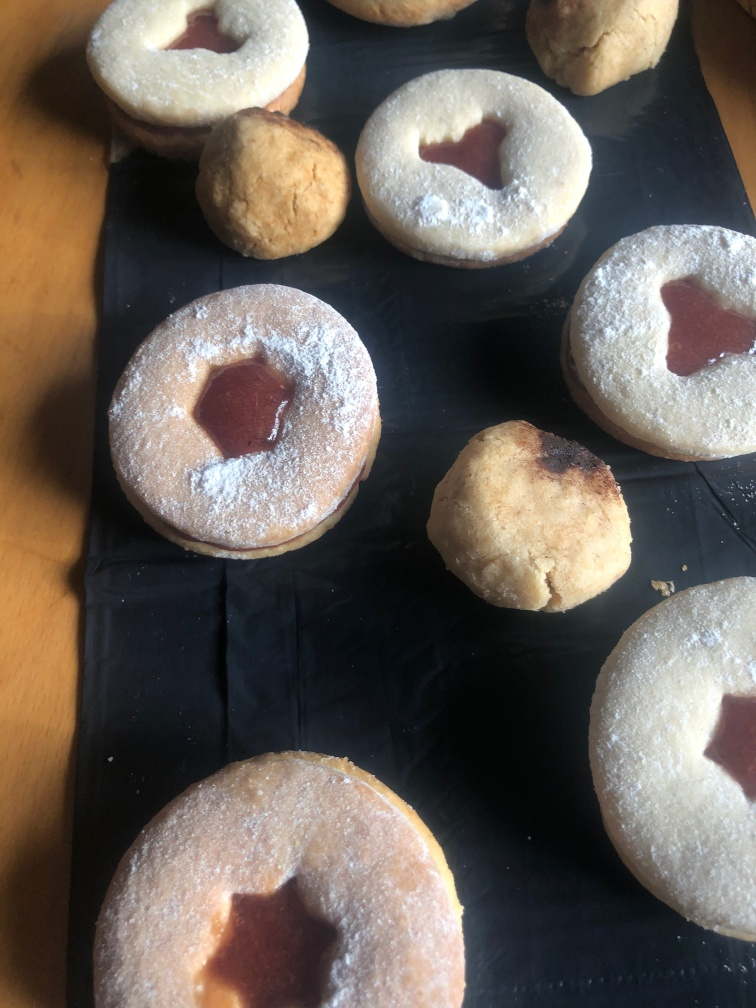christmas shortbread with jam: (84, 747, 466, 1008), (110, 283, 381, 560), (598, 572, 756, 950), (356, 65, 590, 267), (574, 214, 756, 460), (88, 1, 313, 128)
snowball: (429, 420, 632, 621), (210, 106, 340, 258)
